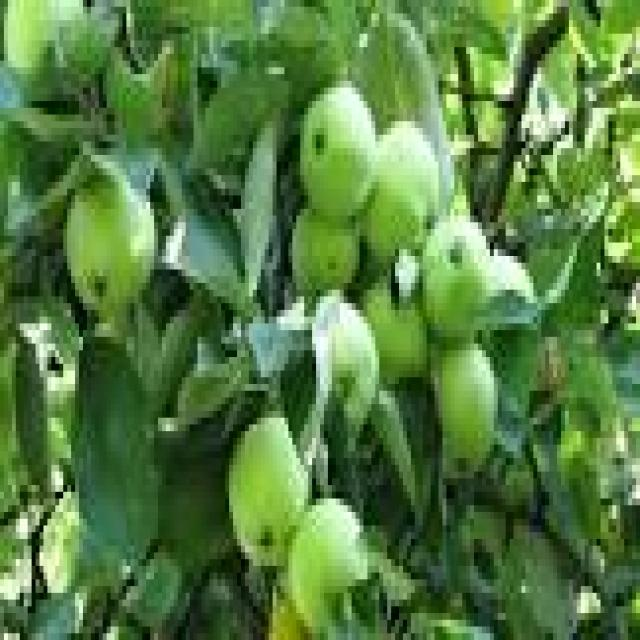apple: (64, 162, 158, 316), (230, 411, 308, 565), (289, 499, 367, 633), (301, 81, 375, 222), (364, 122, 438, 262), (423, 216, 489, 343), (317, 297, 379, 431), (435, 344, 497, 471), (360, 277, 426, 383), (4, 0, 86, 80), (289, 209, 359, 296), (558, 411, 600, 532), (4, 0, 55, 74), (490, 250, 537, 303), (269, 593, 308, 639)
